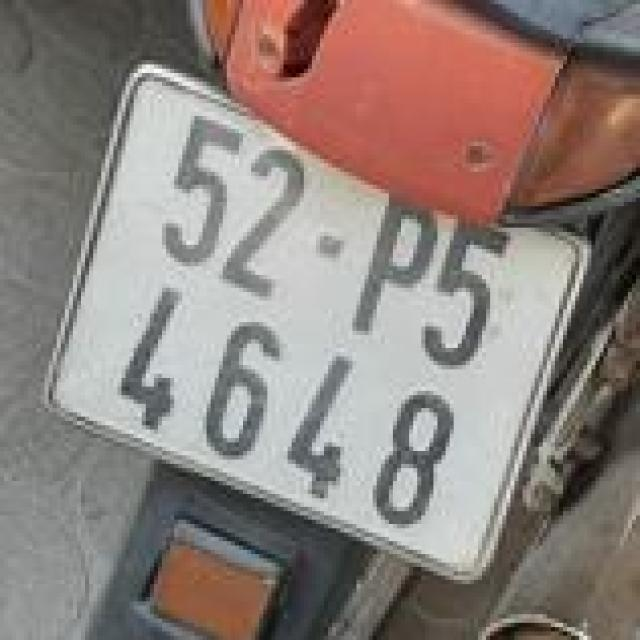2: (211, 129, 328, 310)
4: (86, 271, 221, 450), (267, 340, 387, 520)
5: (400, 200, 527, 392), (140, 97, 260, 285)
6: (186, 302, 304, 484)
8: (356, 369, 480, 553)
P: (333, 173, 459, 358)
